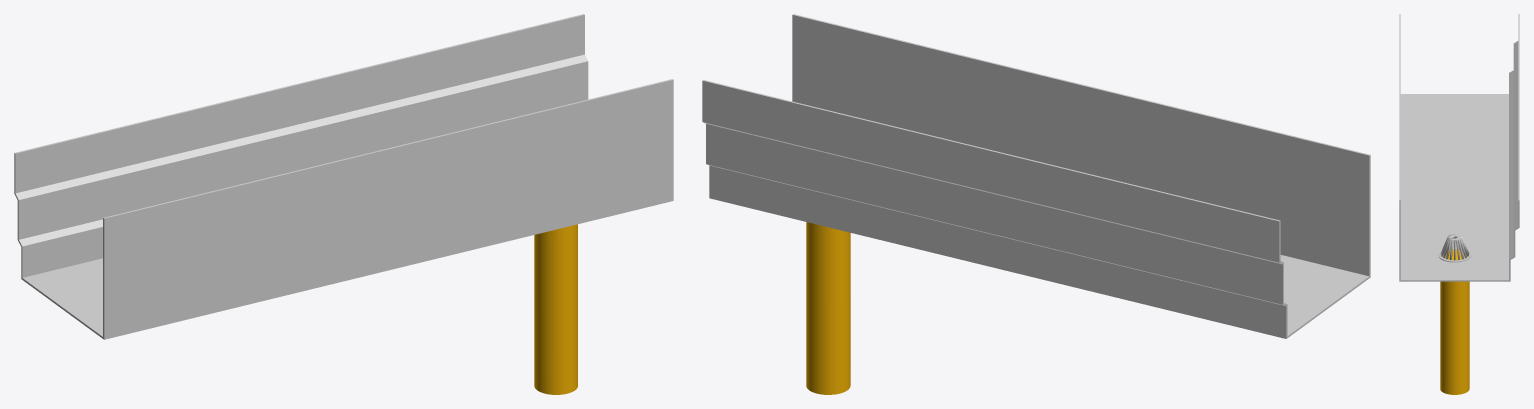
Rendered from canal.glb.
3 renders of one model, left to right at view 1: azimuth 30°, elevation 25°; view 2: azimuth 150°, elevation 25°; view 3: azimuth 270°, elevation 25°, orthographic. The views are drawn at different scales.
Visible parts, largest first — view 1: Geom3D (×2); view 2: Geom3D (×2); view 3: Geom3D (×3).
Part boxes in pixels (x1,y1,x2,y2): Geom3D (×2): (14, 14, 673, 394); Geom3D (×2): (702, 14, 1370, 394); Geom3D (×3): (1399, 14, 1519, 394).
Size of the model in its own units: 1.5 by 0.8 by 0.41.
